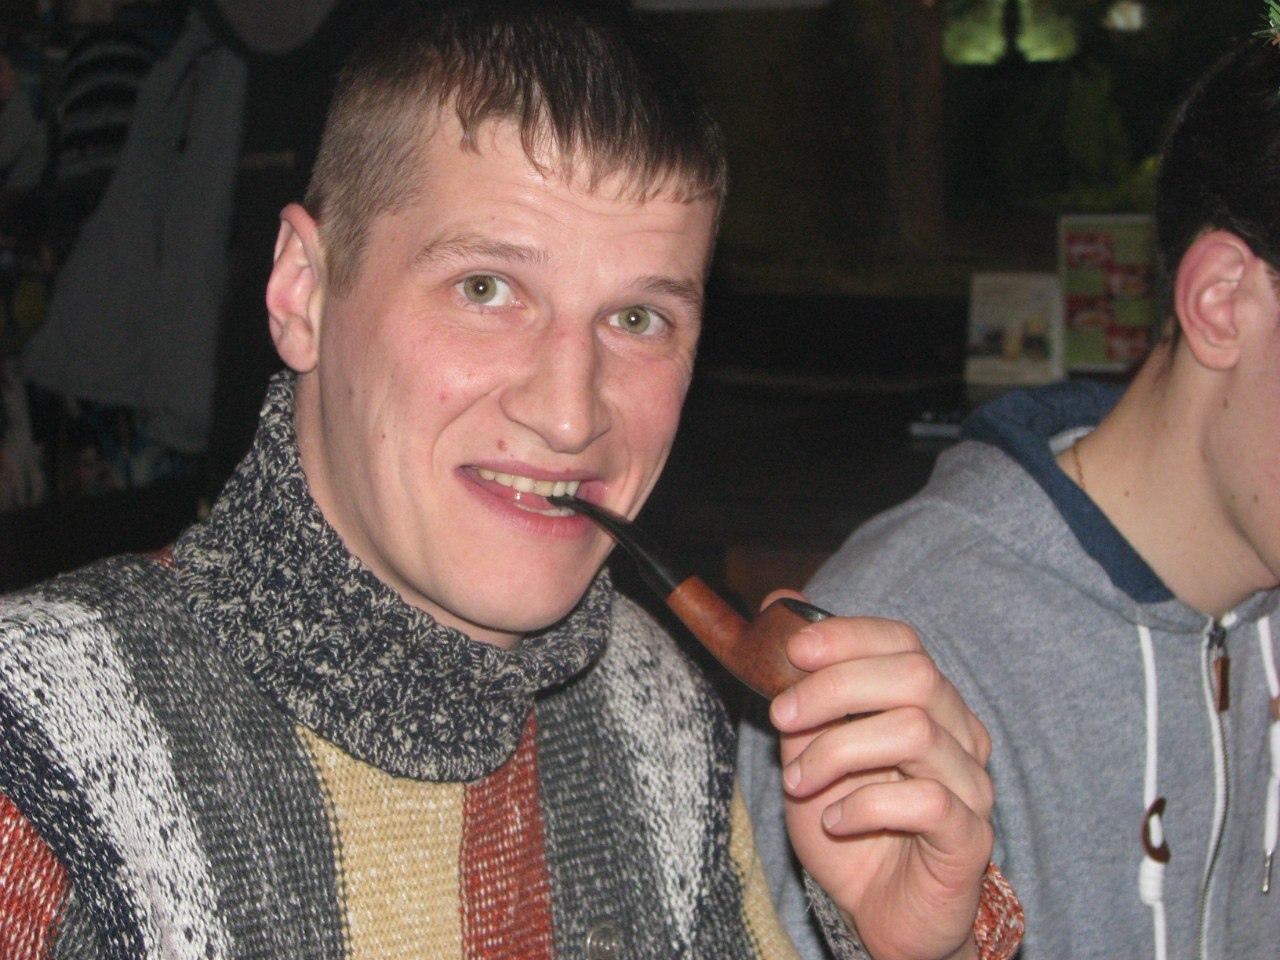trubka: (549, 495, 835, 699)
